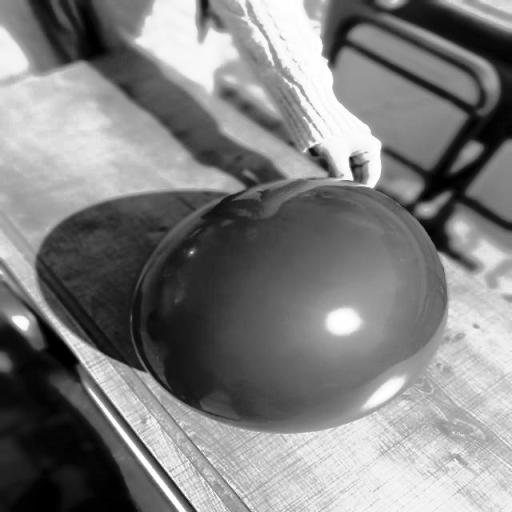balloon: (125, 182, 451, 436)
